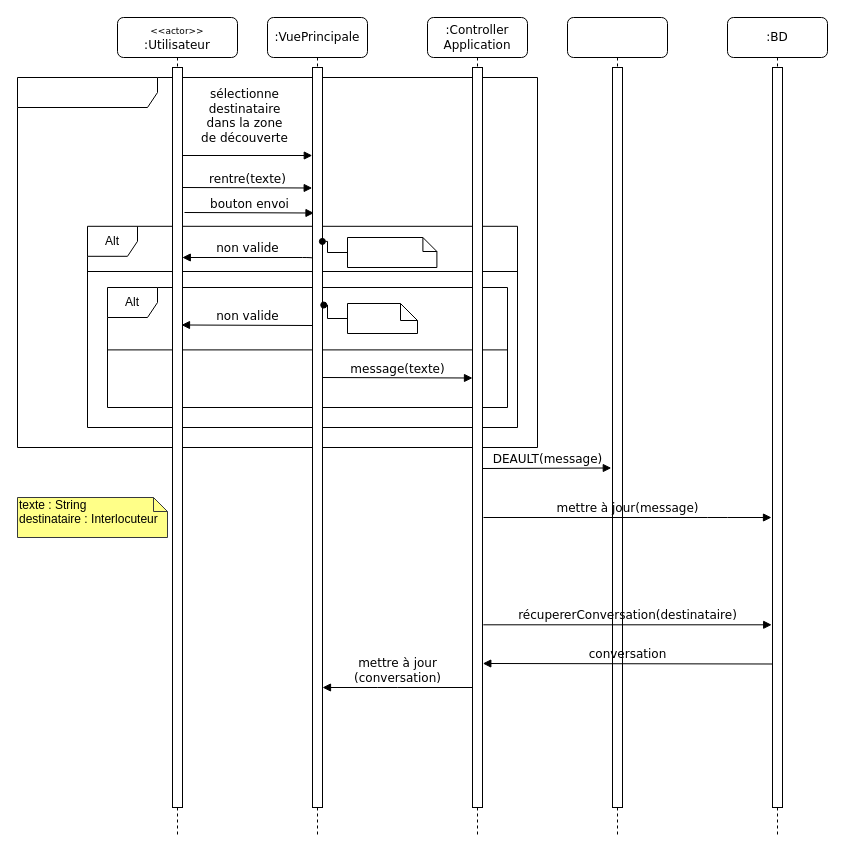
The diagram is 845 pixels wide and 855 high, and some of its shapes have lost their labels. The box of each missing label's shape, as (x1, y1, x2, y2) in pixels:
:Reseau: (566, 16, 668, 838)
destinataire non connecté: (346, 236, 437, 268)
loop[non valide]: (16, 76, 538, 448)
message vide: (346, 302, 418, 334)
